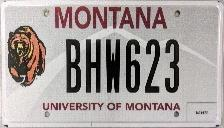2: (143, 37, 162, 94)
3: (163, 37, 182, 95)
6: (124, 37, 142, 95)
B: (64, 38, 84, 94)
H: (84, 38, 104, 95)
W: (104, 37, 124, 95)
